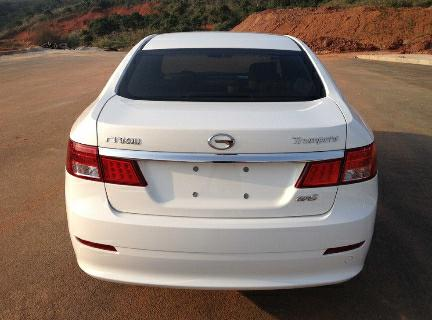广汽吉奥-星朗: (56, 28, 386, 291)
